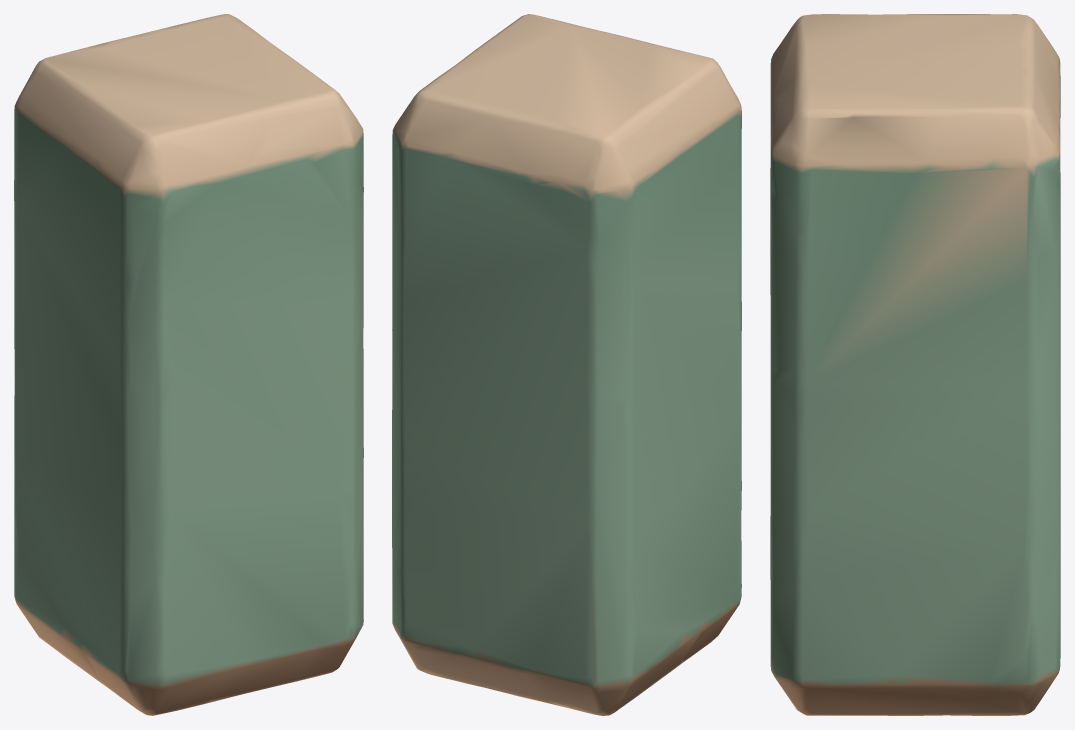
Rendered from gen3d-eraser-lod1.glb.
The picture shows the model from 3 angles, left to right: view 1: azimuth 30°, elevation 25°; view 2: azimuth 150°, elevation 25°; view 3: azimuth 270°, elevation 25°; orthographic projection. The views are drawn at different scales.
Parts seen in each view (by area): view 1: part_0; view 2: part_0; view 3: part_0.
Part boxes in pixels (box(x1,y1,x2,y2)): part_0: box(14, 14, 363, 715); part_0: box(392, 14, 741, 715); part_0: box(770, 14, 1060, 715).
Size of the model in its own units: 0.4326 by 1 by 0.4332.
